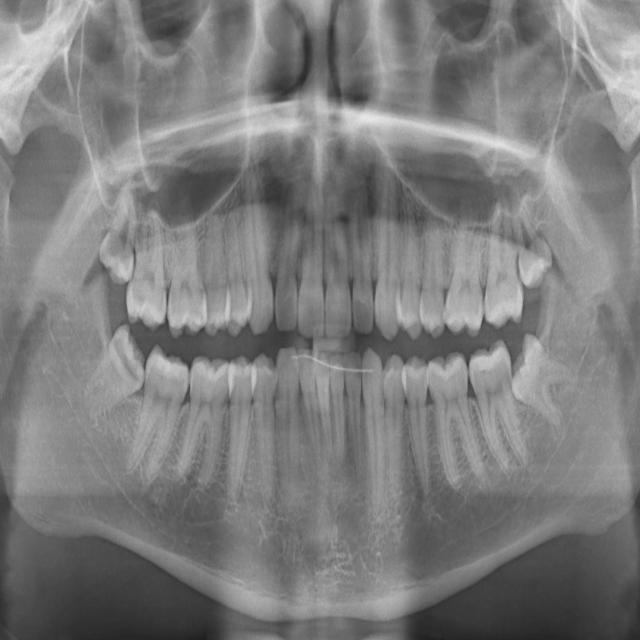3M ESPE Implant: (97, 183, 136, 287)
AGS Medikal Implant: (463, 339, 532, 481)
AMerOss Implant: (423, 348, 489, 491)
Amalgam filling: (125, 199, 168, 333)
Anthogyr Implant: (404, 356, 431, 501)
Bicon Implant: (383, 354, 404, 505)
BioHorizons Implant: (360, 347, 388, 516)
BioLife Implant: (344, 350, 369, 482)
Biomet 3i Implant: (329, 351, 346, 463)
Blue Sky Bio Implant: (315, 349, 334, 464)
Camlog Implant: (296, 345, 326, 471)
Caries: (369, 250, 369, 252)
Composite filling: (274, 347, 300, 505)
Cowellmedi Implant: (253, 353, 276, 510)
Crown: (222, 354, 256, 506)
DENTSPLY Implant: (156, 196, 208, 339)
Dentatus Implant: (174, 353, 233, 490)
Dentis Implant: (123, 342, 196, 484)
Dentium Implant: (70, 321, 165, 435)
Euroteknika Implant: (204, 203, 226, 338)
Filling: (224, 203, 248, 339)
Frontier Implant: (241, 158, 275, 338)
Hiossen Implant: (374, 156, 401, 341)
Implant: (298, 166, 324, 342)
Implant Direct: (272, 186, 305, 334)
Keystone Dental Implant: (322, 158, 352, 340)
MIS Implant: (399, 193, 422, 340)
Mandible: (420, 198, 445, 339)
Maxilla: (444, 206, 485, 337)
Megagen Implant: (484, 192, 526, 330)
Neodent Implant: (506, 181, 556, 290)
Neoss Implant: (491, 330, 596, 431)
